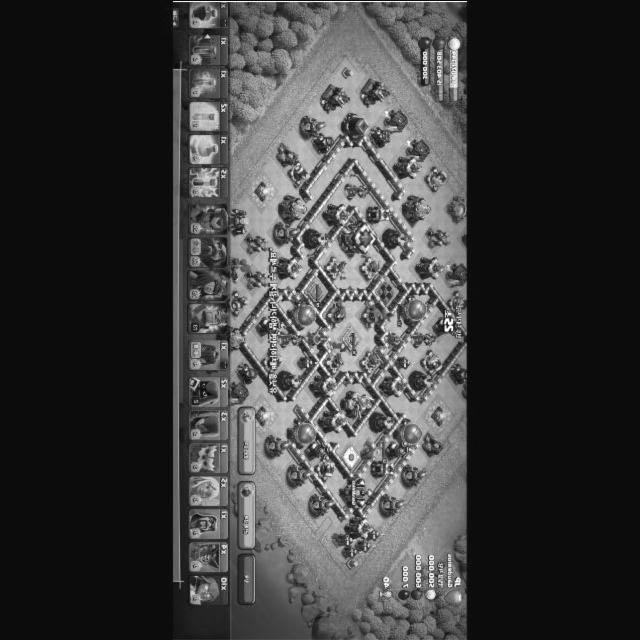AD: (304, 441, 334, 461), (256, 316, 286, 336), (432, 316, 461, 336), (385, 440, 413, 460)
AirSweeper: (304, 329, 329, 347), (383, 328, 404, 347)
BombTower: (367, 205, 393, 223), (372, 460, 398, 476)
Canon: (314, 454, 337, 482), (226, 290, 250, 316), (425, 165, 449, 191), (288, 160, 311, 186), (422, 349, 444, 375), (261, 349, 284, 373), (447, 290, 468, 316)
ClanCastle: (341, 478, 375, 507)
Eagle: (341, 390, 376, 418)
Inferno: (279, 331, 305, 347), (345, 183, 370, 199), (412, 331, 438, 346)
KingPad: (343, 325, 360, 350)
Mortar: (369, 126, 392, 148), (312, 132, 335, 154), (237, 362, 259, 384), (450, 363, 468, 385)
QueenPad: (377, 278, 396, 304)
RcPad: (309, 282, 324, 302)
Scattershot: (359, 298, 384, 327), (324, 299, 348, 327)
TH13: (339, 221, 379, 254)
WardenPad: (343, 446, 361, 468)
WizzTower: (370, 411, 396, 432), (277, 369, 303, 390), (382, 228, 409, 248), (302, 228, 329, 248), (409, 370, 436, 390)
Xbow: (359, 256, 382, 280), (359, 350, 382, 373), (325, 255, 348, 278), (325, 351, 346, 374)
